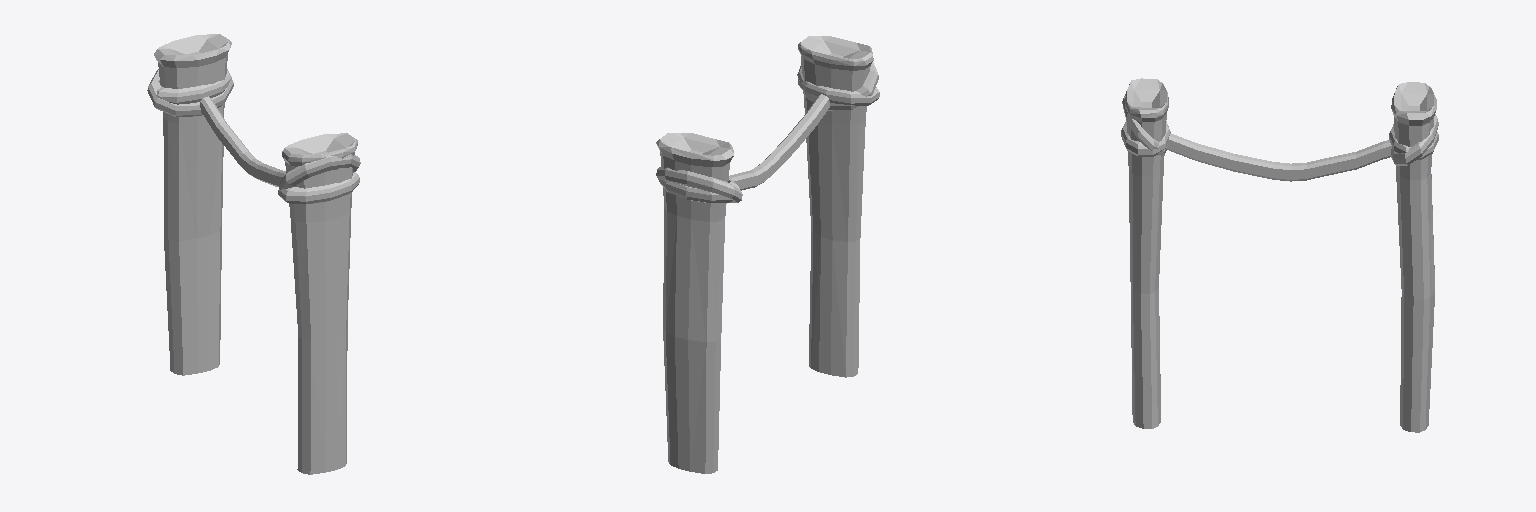
File: fence0Short.obj
The picture shows the model from 3 angles: view 1: azimuth 30°, elevation 25°; view 2: azimuth 150°, elevation 25°; view 3: azimuth 270°, elevation 25°; orthographic projection.
Parts seen in each view (by area): view 1: pCylinder21; view 2: pCylinder21; view 3: pCylinder21.
Part boxes in pixels (x1,y1,x2,y2): pCylinder21: (147,34,360,474); pCylinder21: (656,36,879,473); pCylinder21: (1121,78,1438,432).
Bounding box in the file's own units: 0.5542 × 2.09 × 1.86.